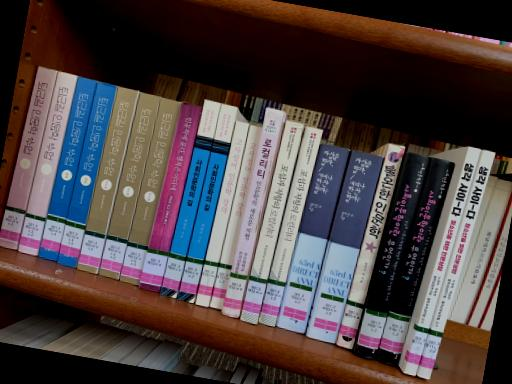book-spine: (419, 149, 496, 379), (404, 146, 480, 375), (378, 157, 454, 365), (355, 151, 430, 358), (307, 150, 384, 344), (338, 143, 406, 349), (277, 144, 350, 333), (222, 108, 283, 317), (241, 121, 303, 325), (259, 126, 322, 326), (138, 102, 202, 292), (119, 97, 183, 285), (161, 99, 220, 299), (77, 86, 139, 274), (178, 103, 236, 303), (100, 92, 161, 279), (56, 81, 116, 267), (18, 71, 77, 255), (39, 76, 97, 260), (0, 66, 57, 250), (196, 121, 249, 307), (210, 125, 262, 309)
